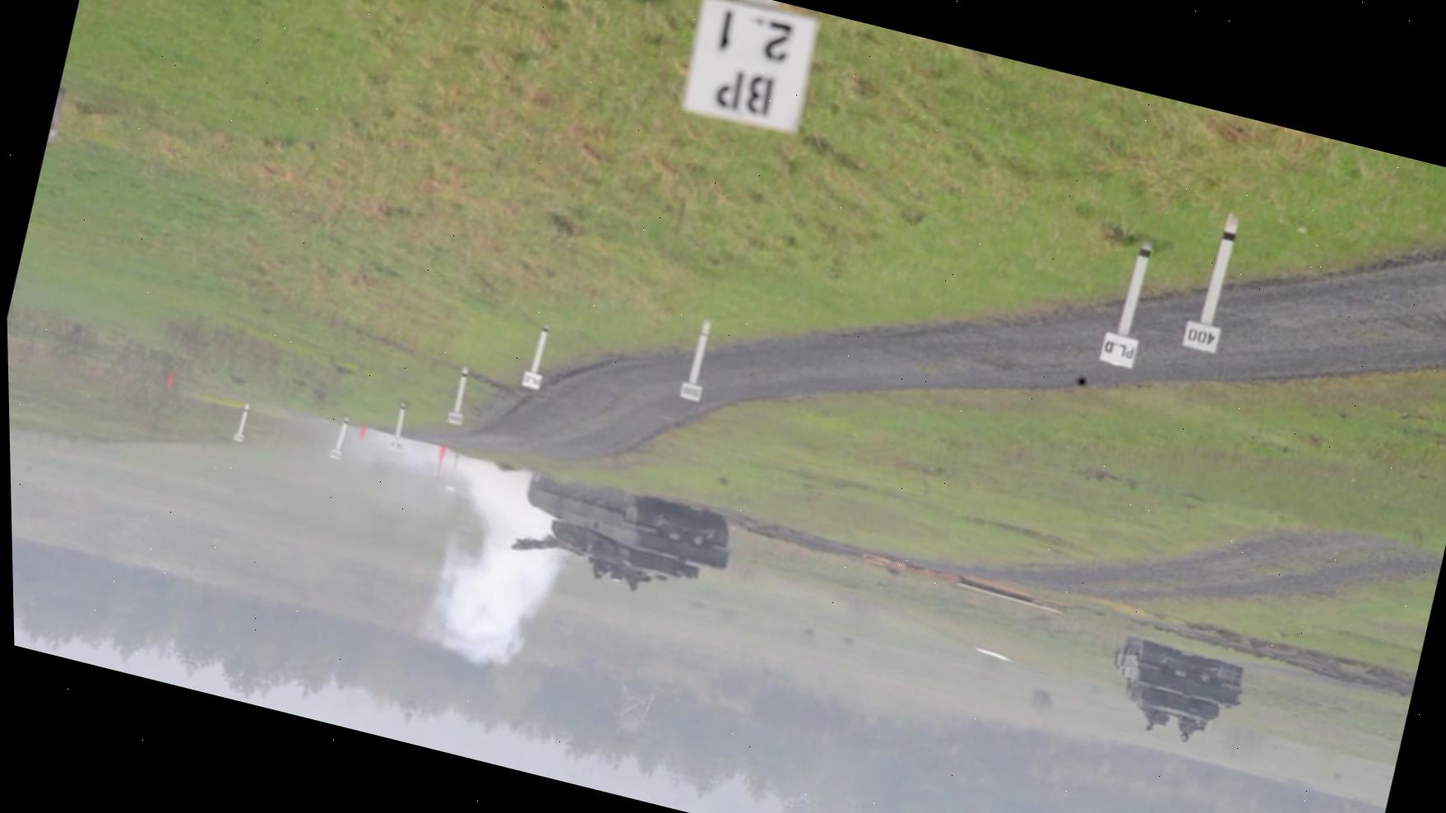armored_car: (1102, 632, 1251, 736)
tank: (506, 465, 740, 611)
